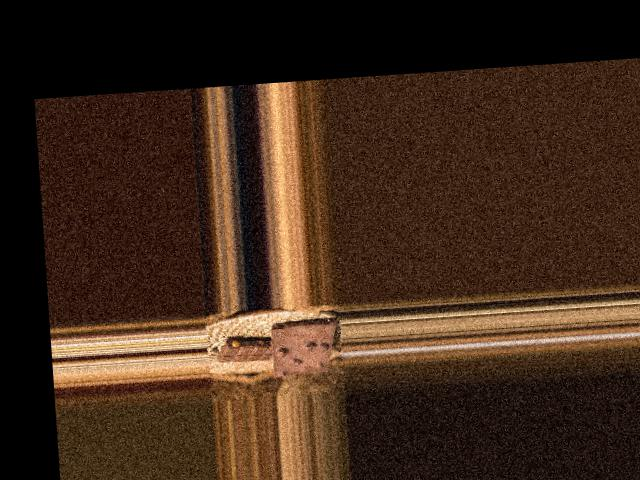chocolate: (266, 318, 340, 379)
